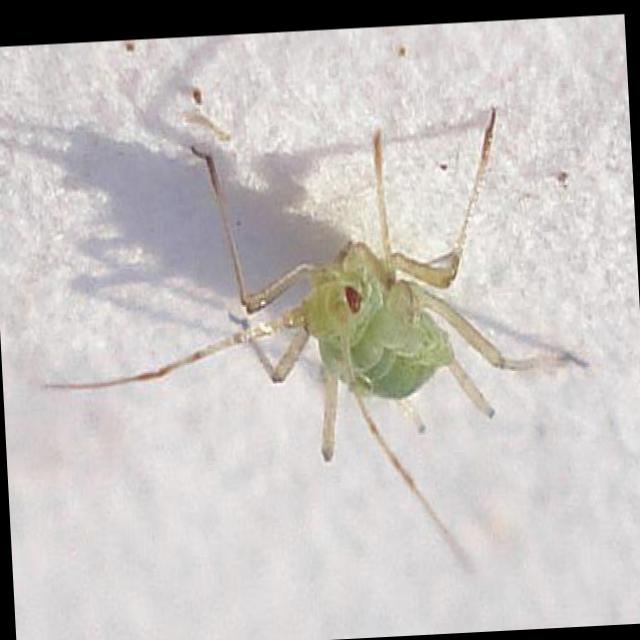Aphid: (91, 114, 544, 502)
